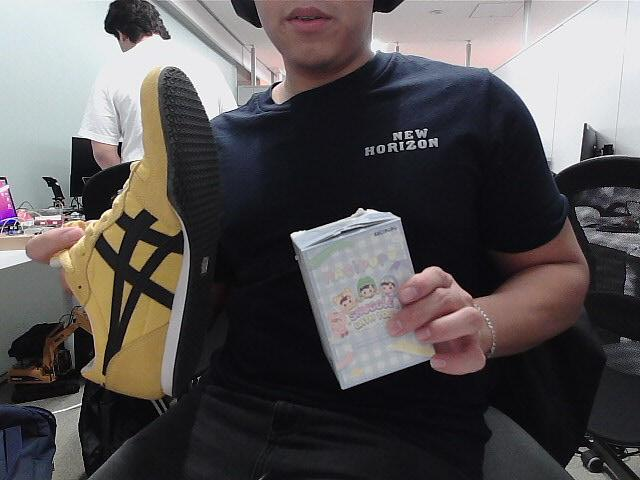Blind_box: (292, 211, 440, 389)
Shoes: (56, 74, 222, 403)
